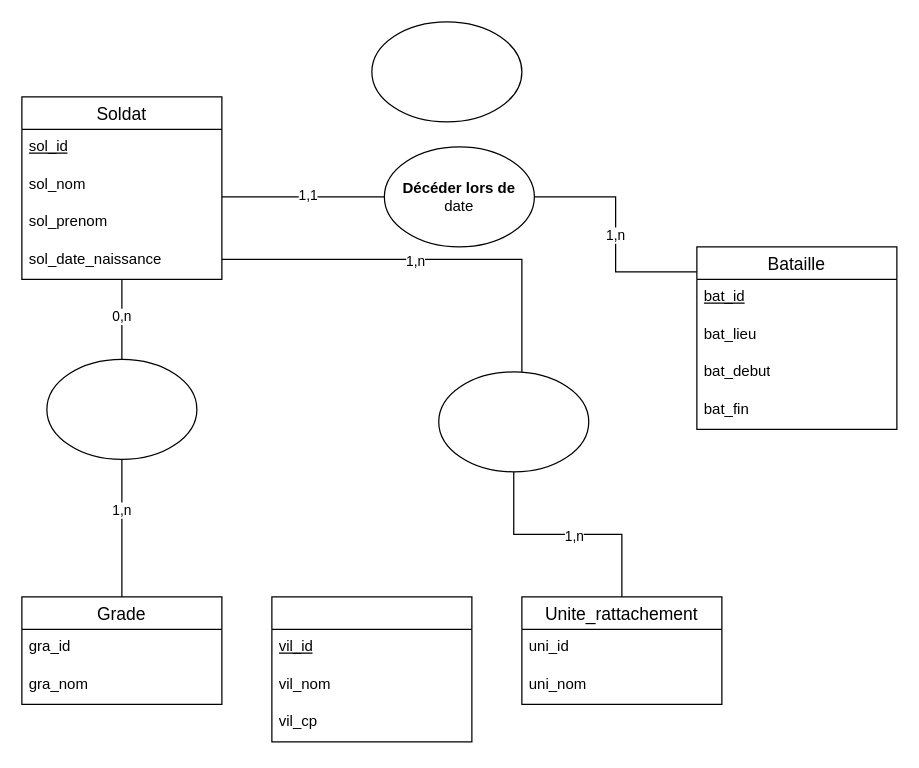
This 919x768 diagram has some shape labels left out. Here are the shapes that lost their labels. From the top down, the box of each, then its label:
(46, 358, 197, 459): est gradé date
(438, 371, 589, 472): est rattaché à date
(271, 596, 472, 742): Ville
